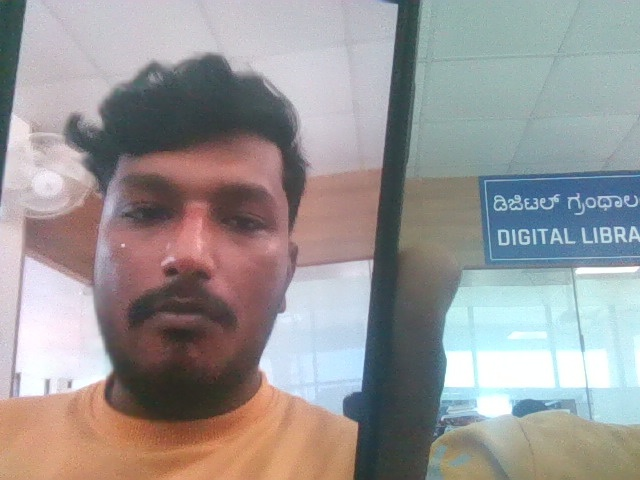fake: (66, 51, 321, 413)
